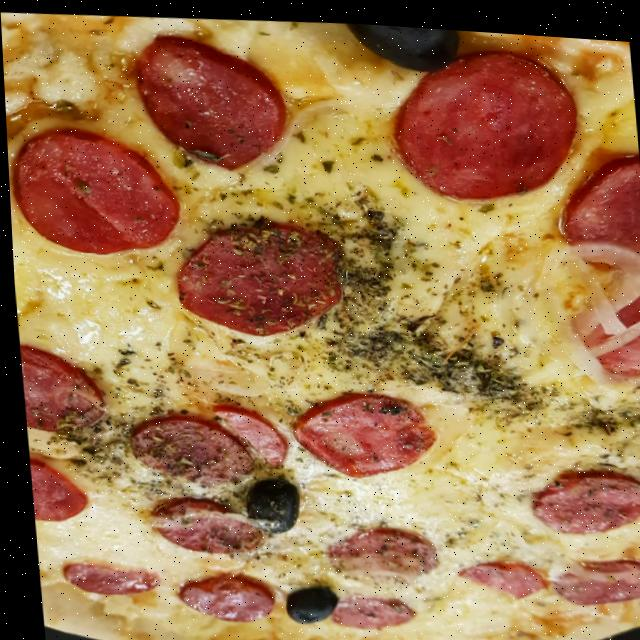black_olives: (341, 18, 463, 67), (231, 469, 304, 535), (275, 579, 331, 622)
pepperoni: (383, 32, 583, 202), (159, 210, 349, 346), (125, 22, 295, 171), (5, 120, 183, 260), (118, 392, 289, 500), (280, 382, 438, 483), (548, 142, 640, 263), (14, 340, 105, 443), (516, 458, 640, 531), (135, 494, 263, 561), (312, 515, 431, 585), (166, 566, 268, 625), (586, 258, 640, 369), (540, 545, 640, 600), (52, 551, 158, 601), (23, 453, 86, 529), (447, 548, 539, 594), (324, 586, 415, 632)
pizza: (0, 0, 640, 640)
